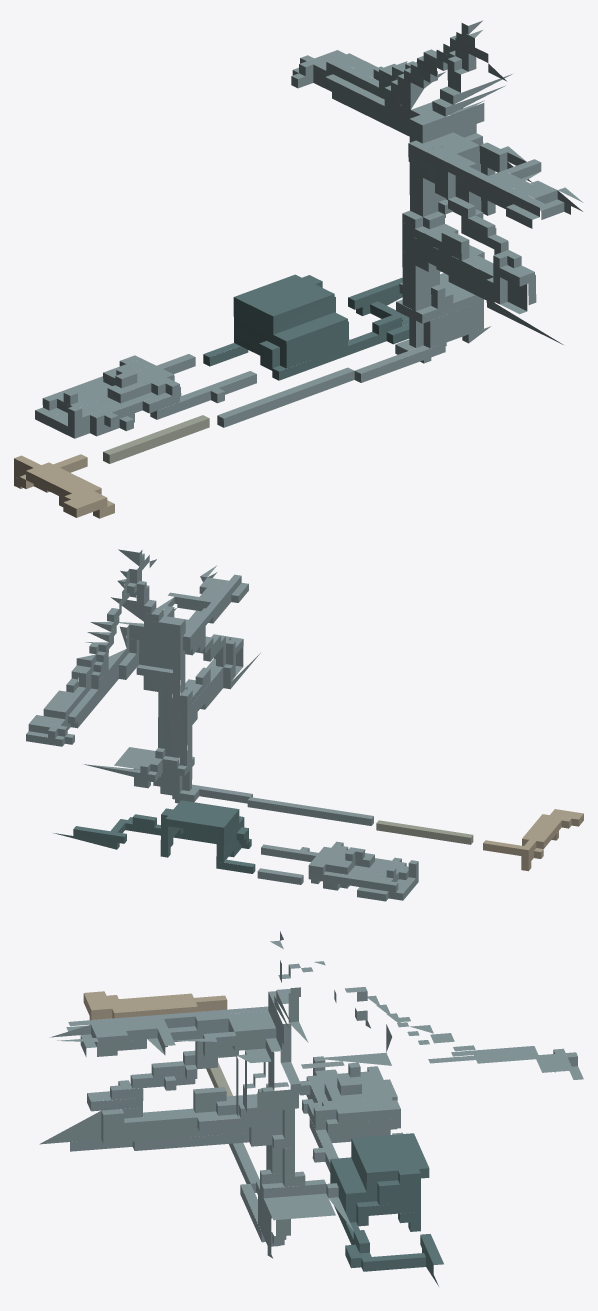
The picture shows the model from 3 angles, top to bottom: view 1: azimuth 30°, elevation 25°; view 2: azimuth 150°, elevation 25°; view 3: azimuth 270°, elevation 25°; orthographic projection. The views are drawn at different scales.
Visible parts, largest first — view 1: measured-industrial; view 2: measured-industrial; view 3: measured-industrial.
Part boxes in pixels (x1,y1,x2,y2): measured-industrial: (14, 20, 583, 518); measured-industrial: (26, 549, 583, 901); measured-industrial: (39, 931, 583, 1286).
Bounding box in the file's own units: 96.59 × 54.35 × 80.54.
